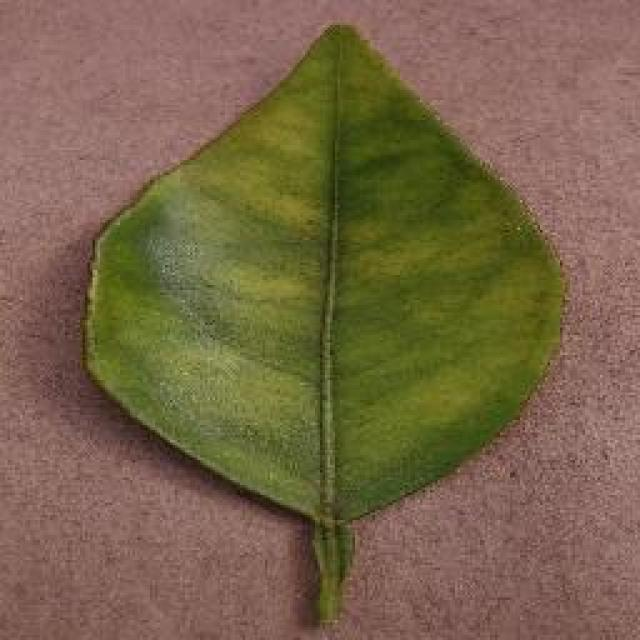Orange_Haunglongbing_Citrus_greening: (152, 98, 492, 478)
